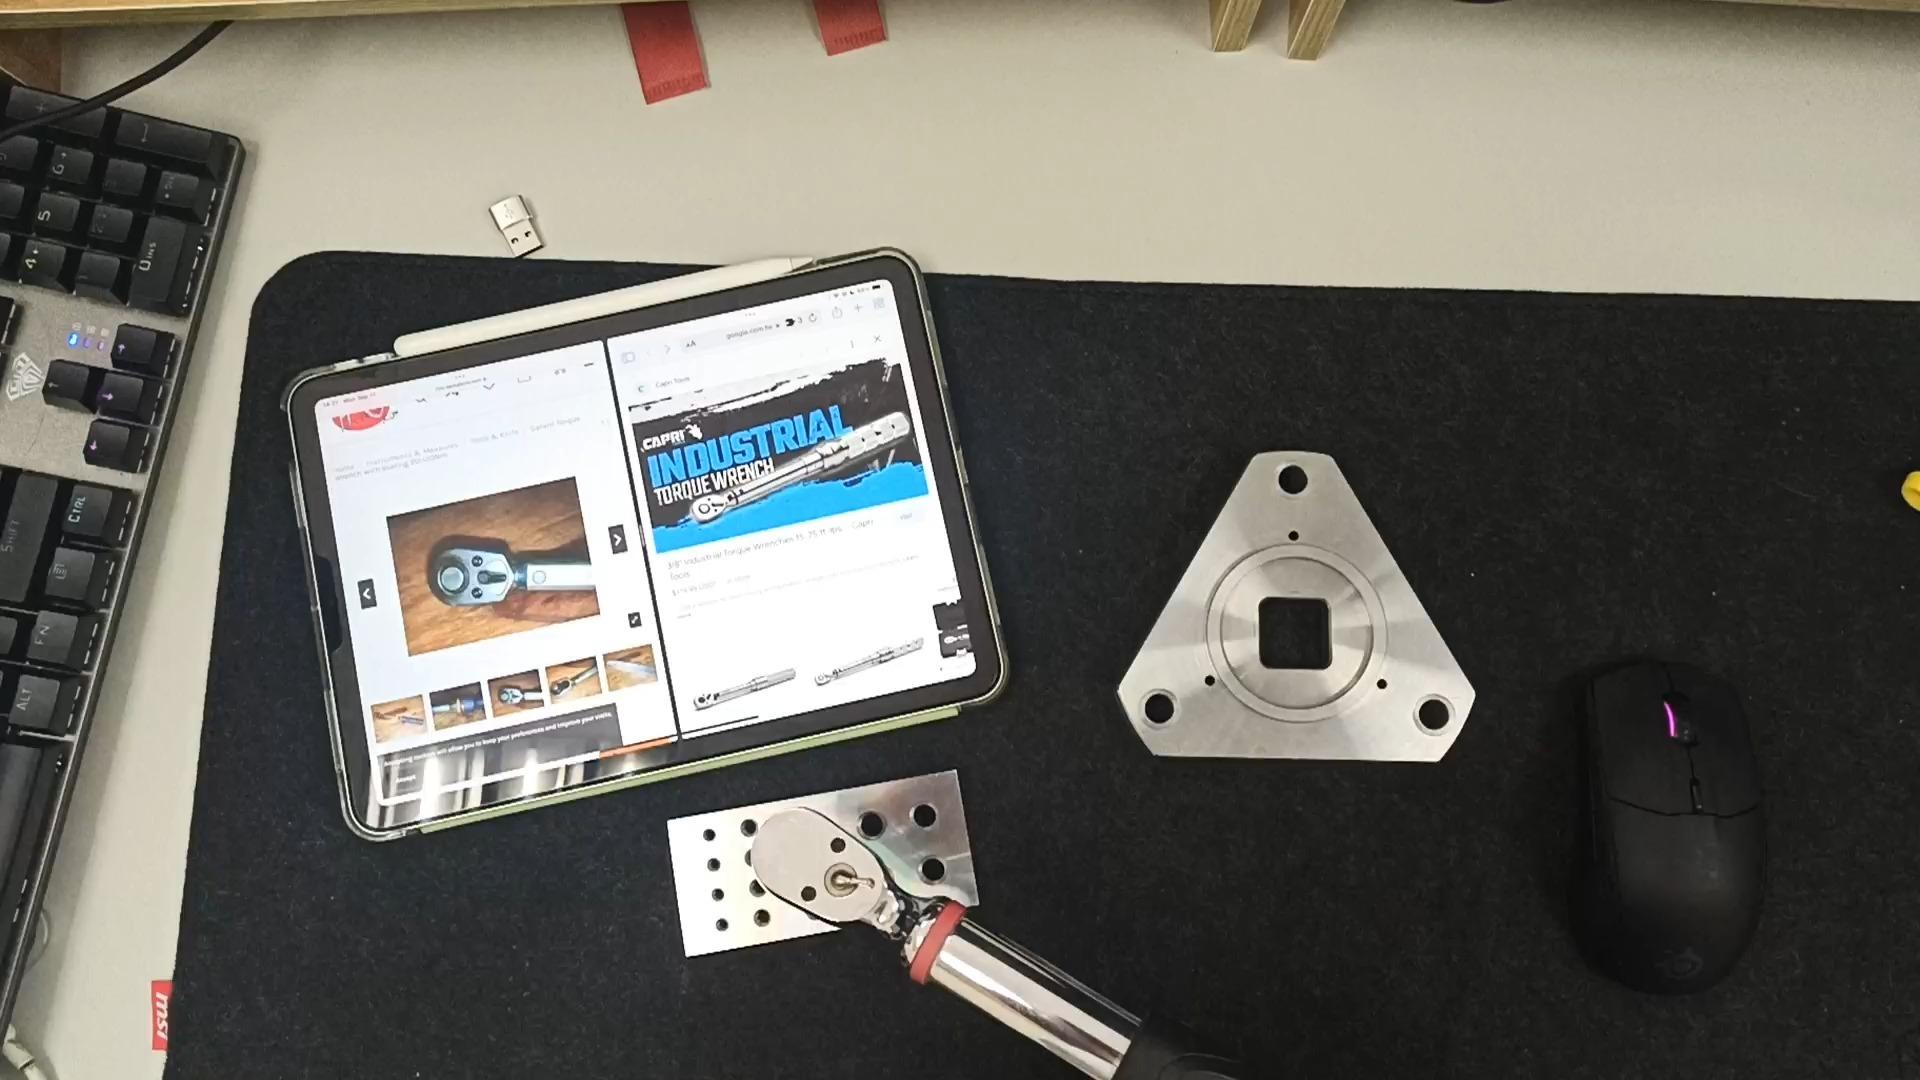Tool: (748, 808, 938, 961), (430, 549, 526, 609), (684, 488, 738, 529)
hole: (1393, 698, 1465, 745), (1130, 690, 1189, 736), (1265, 463, 1325, 506), (902, 853, 963, 889), (849, 810, 902, 843), (901, 803, 948, 835), (723, 816, 764, 840), (735, 880, 771, 901), (690, 824, 724, 844), (740, 913, 774, 931), (698, 884, 732, 902), (695, 856, 729, 874), (703, 918, 736, 936)
